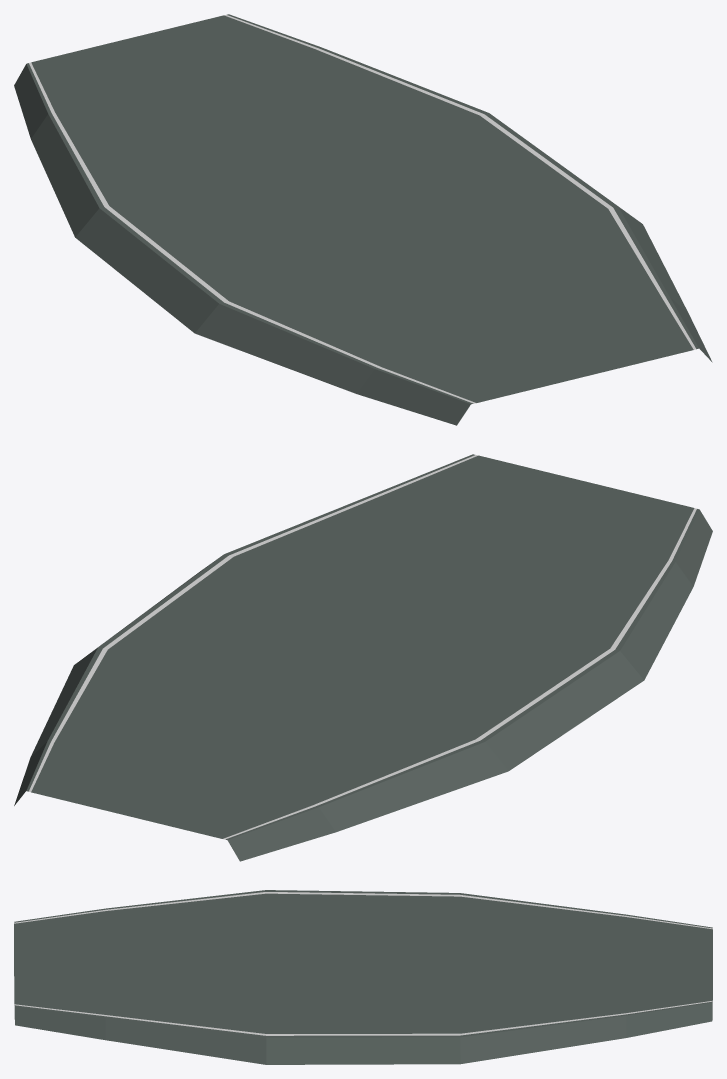
Rendered from Straight_Bloated.fbx.
The picture shows the model from 3 angles, top to bottom: view 1: azimuth 30°, elevation 25°; view 2: azimuth 150°, elevation 25°; view 3: azimuth 270°, elevation 25°; orthographic projection. The views are drawn at different scales.
Parts seen in each view (by area): view 1: Plane; view 2: Plane; view 3: Plane.
Part boxes in pixels (left/top/right/bottom): Plane: left=14, top=14, right=712, bottom=425; Plane: left=14, top=454, right=712, bottom=861; Plane: left=14, top=890, right=712, bottom=1064.
Size of the model in its own units: 25.6 by 1.3 by 45.57.
